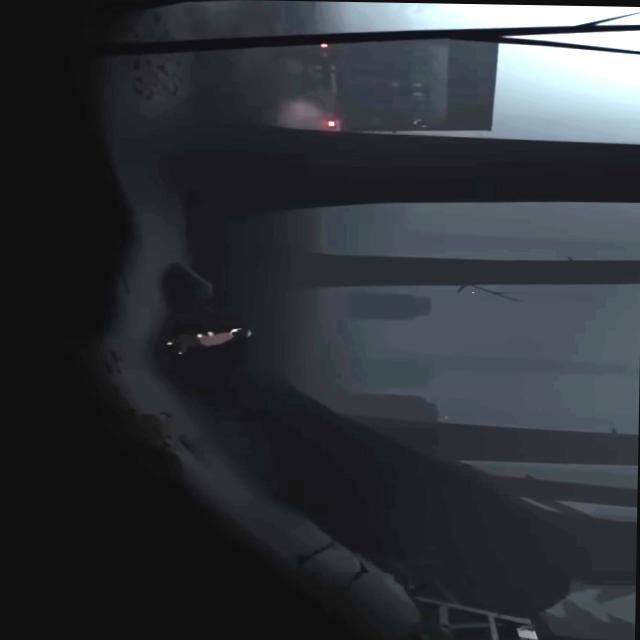boy: (161, 324, 251, 354)
